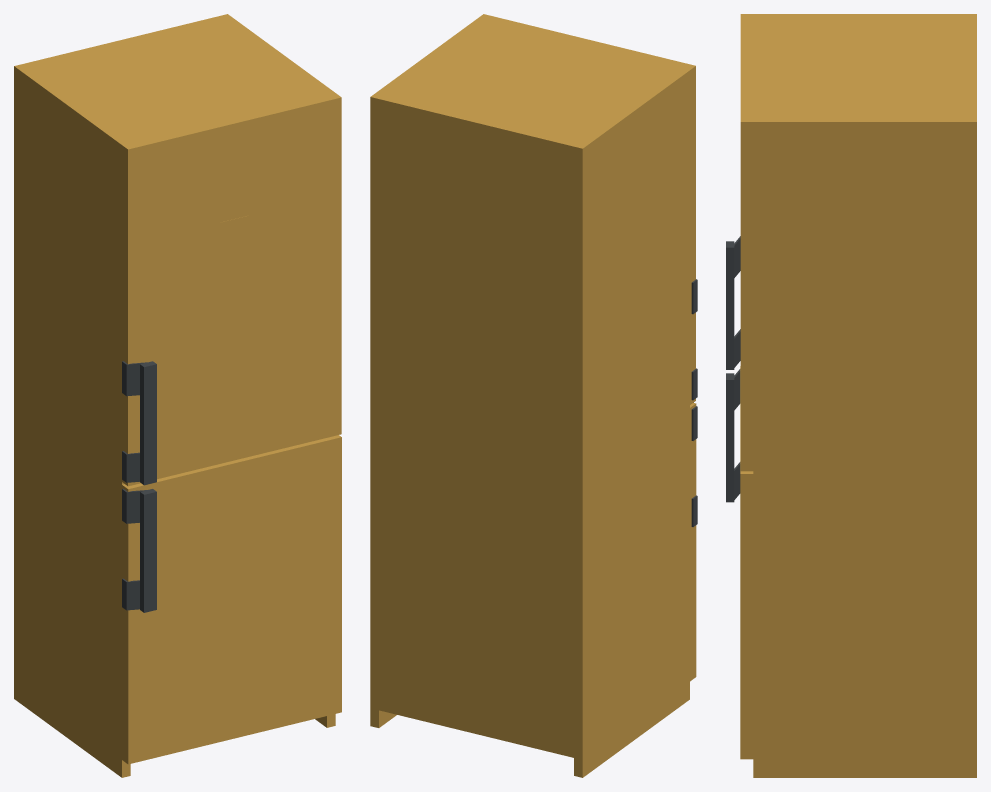
Rendered from refrigeratorwithverticalhandle _01_D.gltf.
The picture shows the model from 3 angles, left to right: view 1: azimuth 30°, elevation 25°; view 2: azimuth 150°, elevation 25°; view 3: azimuth 270°, elevation 25°; orthographic projection. The views are drawn at different scales.
Parts seen in each view (by area): view 1: refrigeratorwithverticalhandle _01_D, Doorrefrigeratorwithverticalhandletop _01_D, Doorrefrigeratorwithverticalhandlebot _01_D; view 2: refrigeratorwithverticalhandle _01_D, Doorrefrigeratorwithverticalhandletop _01_D, Doorrefrigeratorwithverticalhandlebot _01_D; view 3: refrigeratorwithverticalhandle _01_D, Doorrefrigeratorwithverticalhandletop _01_D, Doorrefrigeratorwithverticalhandlebot _01_D.
Part boxes in pixels (x1,y1,x2,y2): refrigeratorwithverticalhandle _01_D: (14,14,335,777); Doorrefrigeratorwithverticalhandletop _01_D: (122,93,341,486); Doorrefrigeratorwithverticalhandlebot _01_D: (122,435,341,764); refrigeratorwithverticalhandle _01_D: (370,18,689,777); Doorrefrigeratorwithverticalhandletop _01_D: (478,14,697,404); Doorrefrigeratorwithverticalhandlebot _01_D: (690,402,697,681); refrigeratorwithverticalhandle _01_D: (753,14,976,777); Doorrefrigeratorwithverticalhandletop _01_D: (726,14,753,471); Doorrefrigeratorwithverticalhandlebot _01_D: (726,366,753,759).
Bounding box in the file's own units: 0.8059 × 2.26 × 0.7847.
Materials: 1 (1 with a texture image).
